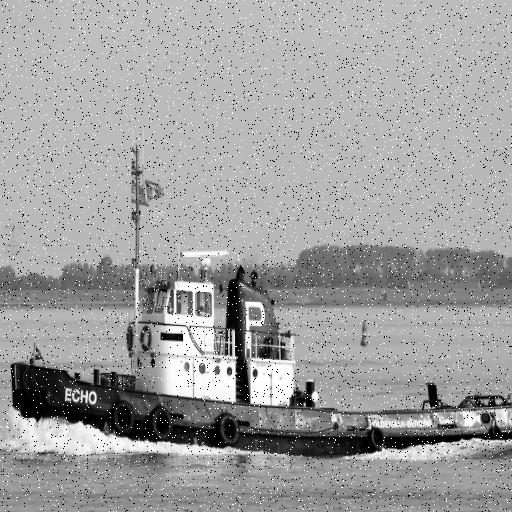tugboat: (8, 142, 512, 465)
